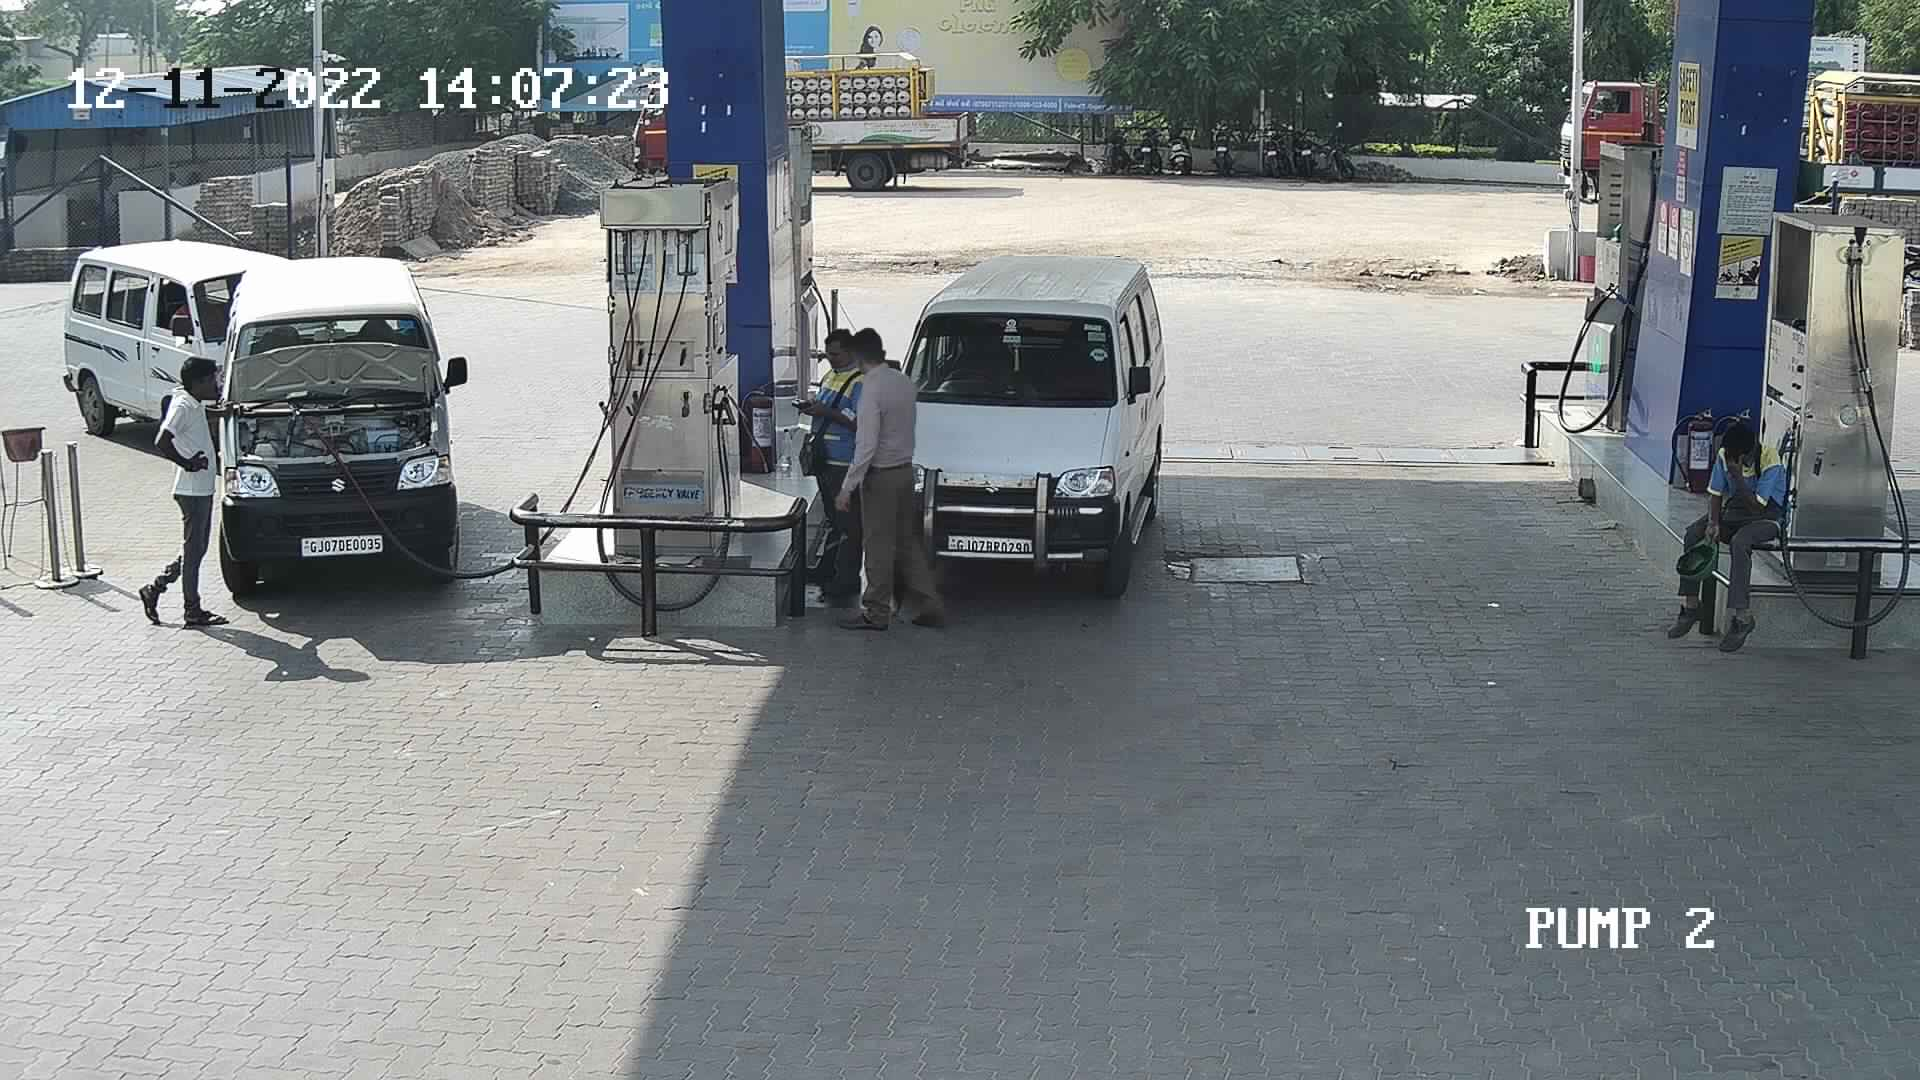Bike: (1309, 117, 1361, 186), (1089, 109, 1135, 179), (1159, 107, 1203, 177), (1284, 113, 1324, 187), (1258, 116, 1299, 186), (1207, 107, 1245, 179), (1133, 113, 1164, 177)
Car: (864, 248, 1184, 600), (166, 258, 485, 588), (50, 229, 344, 460)
HMV: (771, 41, 988, 196), (1787, 57, 1917, 215), (1548, 69, 1672, 200)
Others: (1654, 410, 1793, 655), (786, 320, 874, 612)
